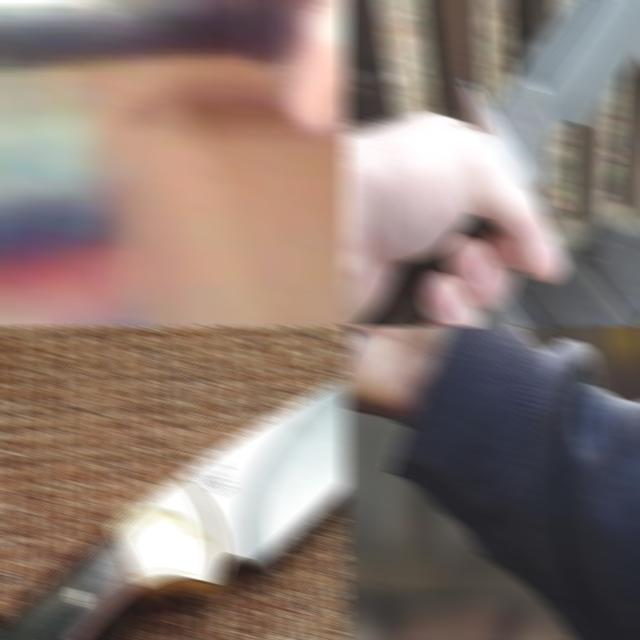Knife: (464, 0, 640, 209)
Knife_Handle: (0, 0, 348, 134), (342, 326, 438, 640)
